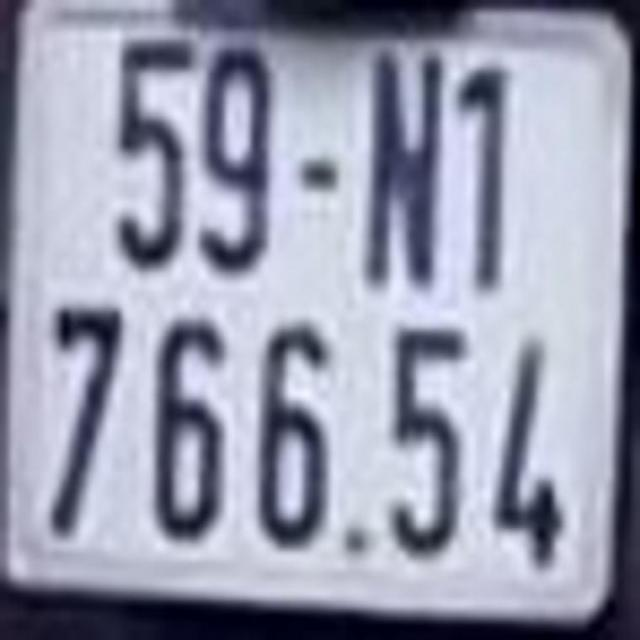1: (451, 47, 516, 292)
4: (483, 320, 561, 575)
5: (387, 309, 469, 556), (116, 26, 191, 264)
6: (148, 307, 229, 544), (256, 308, 327, 550)
7: (50, 296, 128, 539)
9: (200, 41, 272, 274)
N: (365, 42, 446, 288)
